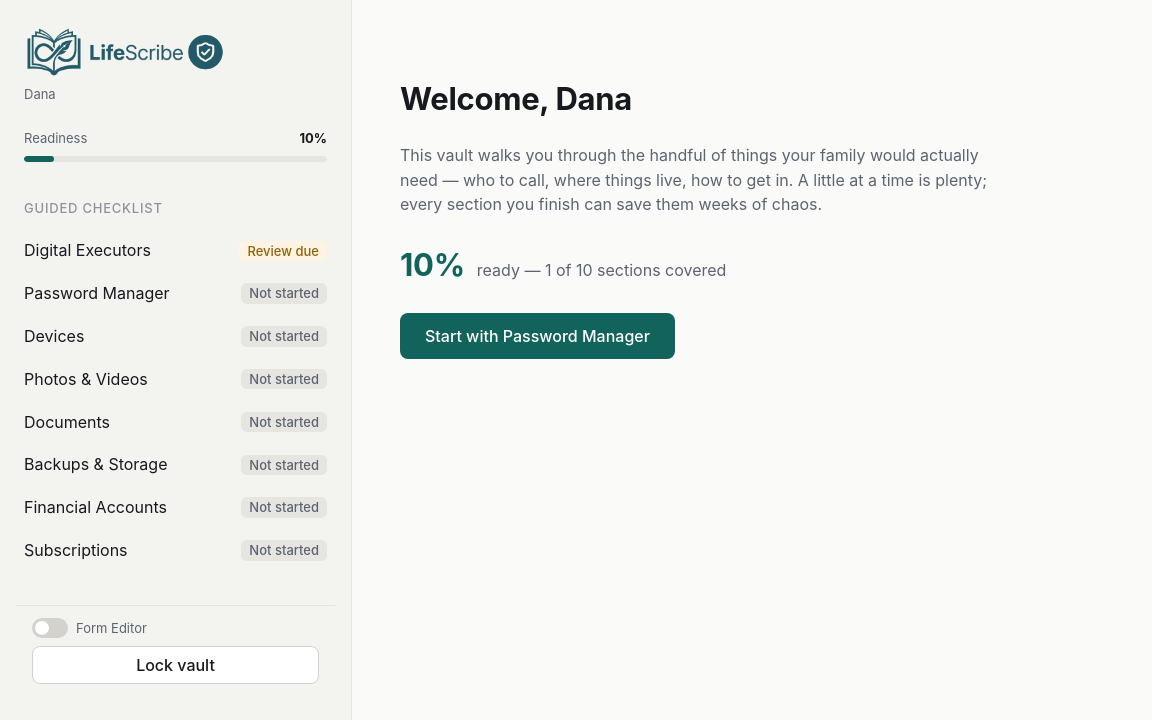
Test: Dashboard checklist and saving › offers Mark as reviewed only once a completed section goes stale, and refreshes it back to Complete
Expected: the heading "Welcome, Dana" is shown, [400,80,632,117]
Expected: the text "Review due" is shown, [240,241,327,261]
Click the button "Digital Executors Review due".
click(87, 250)  # box [16,230,335,271]
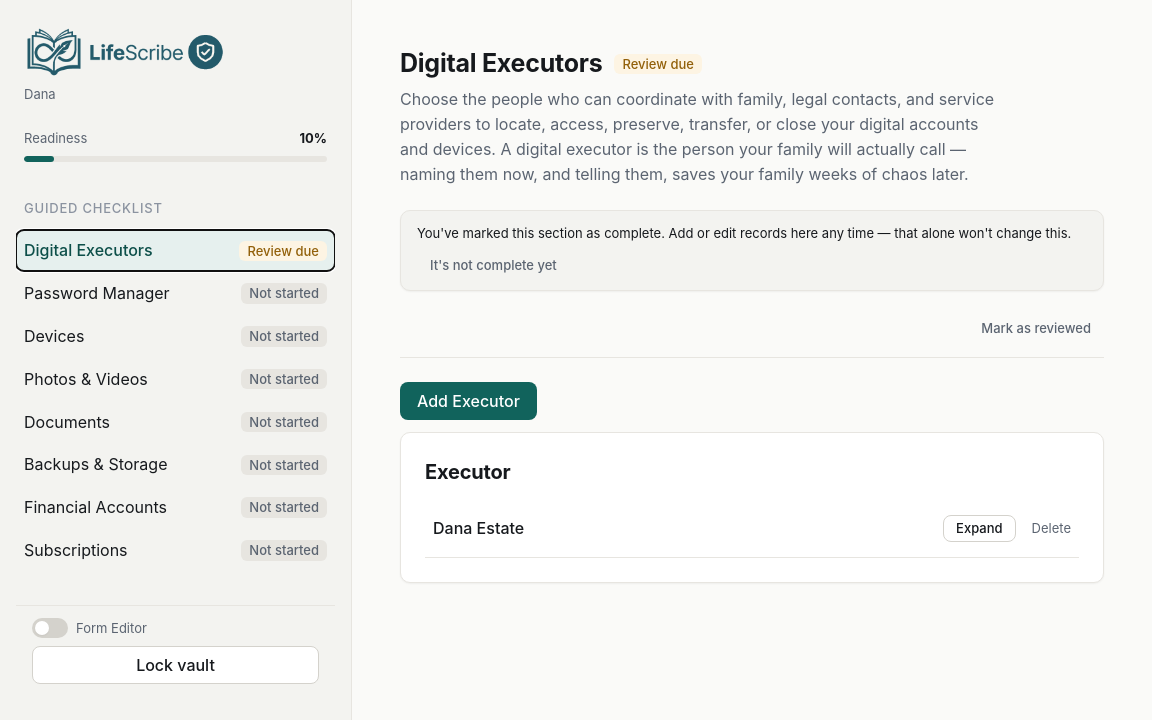
Click the button "Mark as reviewed".
click(1036, 328)  # box [968,315,1104,341]
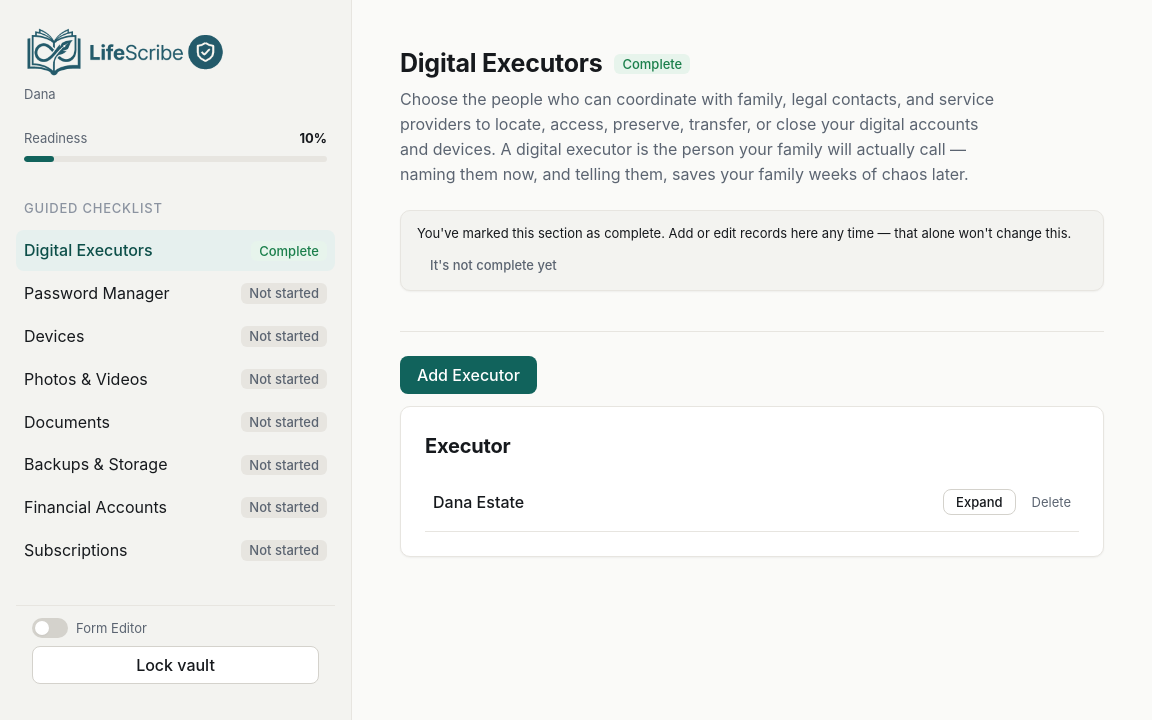
Expected: the text "Complete" below "Guided checklist" is shown, [259,243,319,259]
Expected: the button "Mark as reviewed" is gone
